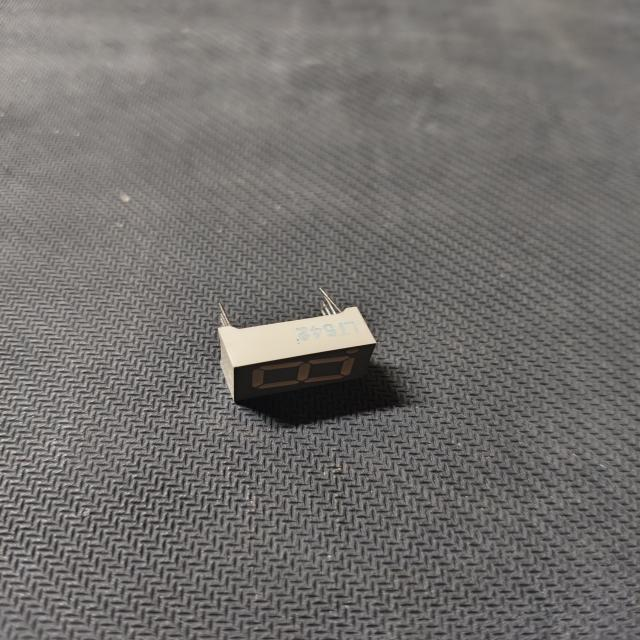sevensegment: (204, 283, 401, 410)
